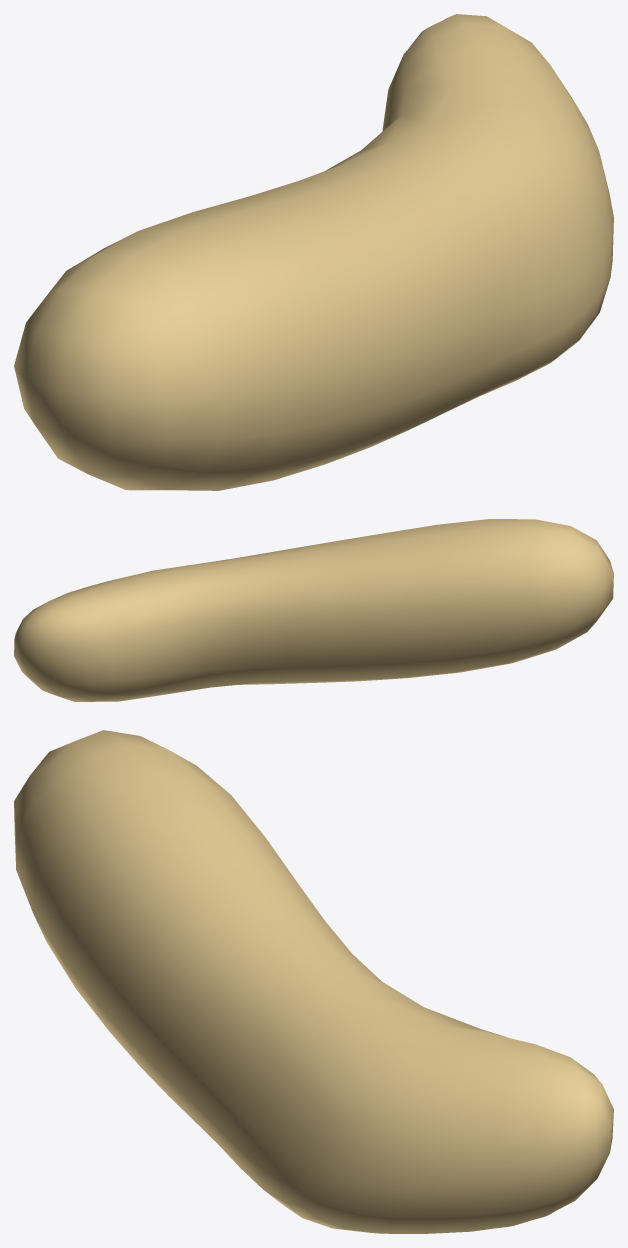
File: cake_arm.fbx
3 views of the same model, one above another, from view 1: azimuth 30°, elevation 25°; view 2: azimuth 150°, elevation 25°; view 3: azimuth 270°, elevation 25° (orthographic). The views are drawn at different scales.
Parts seen in each view (by area): view 1: polySurface6; view 2: polySurface6; view 3: polySurface6.
Part boxes in pixels (x1=…): polySurface6: x1=14, y1=14, x2=613, y2=490; polySurface6: x1=14, y1=519, x2=613, y2=701; polySurface6: x1=14, y1=730, x2=613, y2=1233.
Size of the model in its own units: 1.74 by 0.6486 by 1.37.
